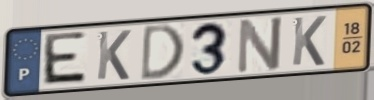3: (188, 19, 233, 79)
D: (138, 21, 187, 84)
E: (40, 29, 90, 87)
K: (94, 29, 133, 82), (290, 15, 328, 68)
N: (235, 14, 285, 76)
